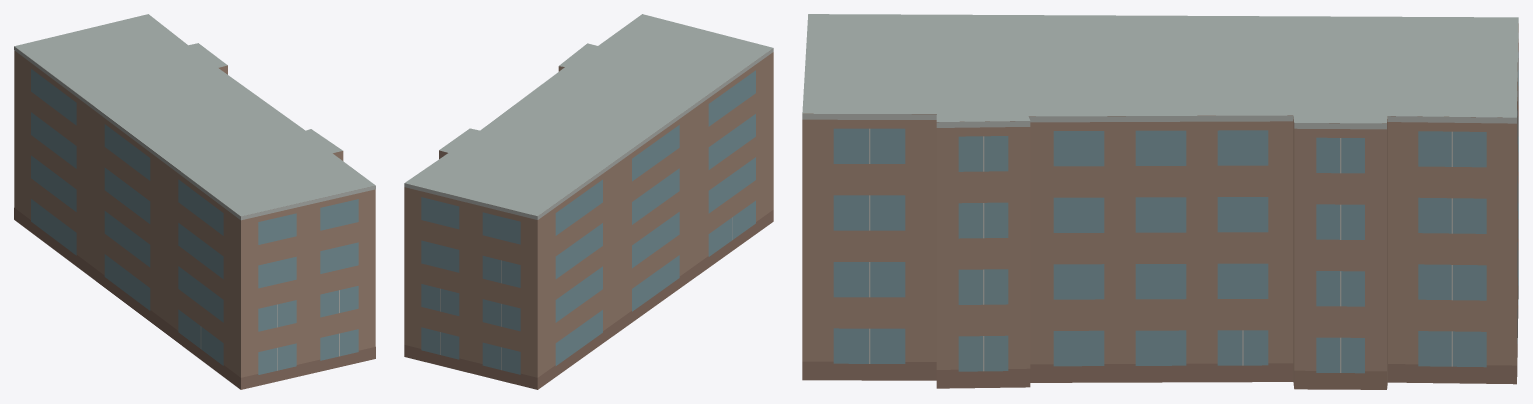
Rendered from survey-upis-32957610.glb.
3 renders of one model, left to right at view 1: azimuth 30°, elevation 25°; view 2: azimuth 150°, elevation 25°; view 3: azimuth 270°, elevation 25°, orthographic. The views are drawn at different scales.
Parts seen in each view (by area): view 1: survey-upis-32957610.tmp; view 2: survey-upis-32957610.tmp; view 3: survey-upis-32957610.tmp.
Boxes of the visible parts, <box> form: survey-upis-32957610.tmp: <box>14,14,375,389</box>; survey-upis-32957610.tmp: <box>404,14,773,389</box>; survey-upis-32957610.tmp: <box>802,14,1518,389</box>.
Size of the model in its own units: 9.61 by 10.9 by 26.56.
